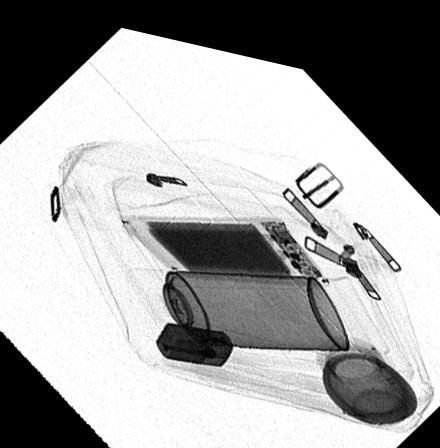Lighter: (156, 316, 233, 358)
Powerbank: (117, 205, 332, 279)
Sprayer: (128, 261, 350, 338)
